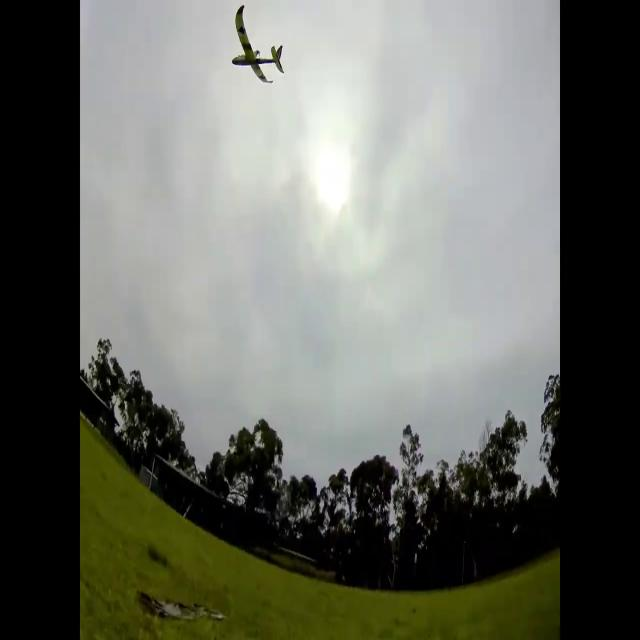iha: (232, 36, 286, 51)
